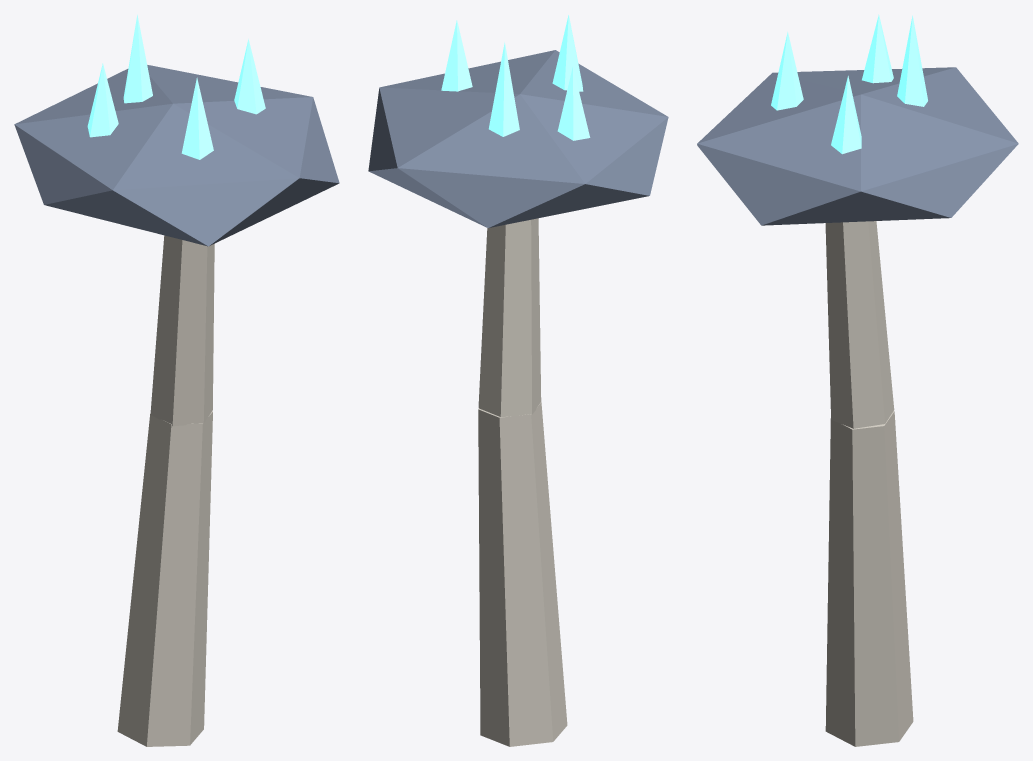
File: arv_fungo_cristal_3_sem_textura.glb
3 renders of one model, left to right at view 1: azimuth 30°, elevation 25°; view 2: azimuth 150°, elevation 25°; view 3: azimuth 270°, elevation 25°, orthographic.
Parts seen in each view (by area): view 1: arv_fungo_cristal_3; view 2: arv_fungo_cristal_3; view 3: arv_fungo_cristal_3.
Boxes of the visible parts, x1,y1,x2,y2 form: arv_fungo_cristal_3: (14, 14, 339, 746); arv_fungo_cristal_3: (368, 15, 668, 746); arv_fungo_cristal_3: (697, 14, 1018, 746).
Size of the model in its own units: 0.7744 by 1.93 by 0.7911.
